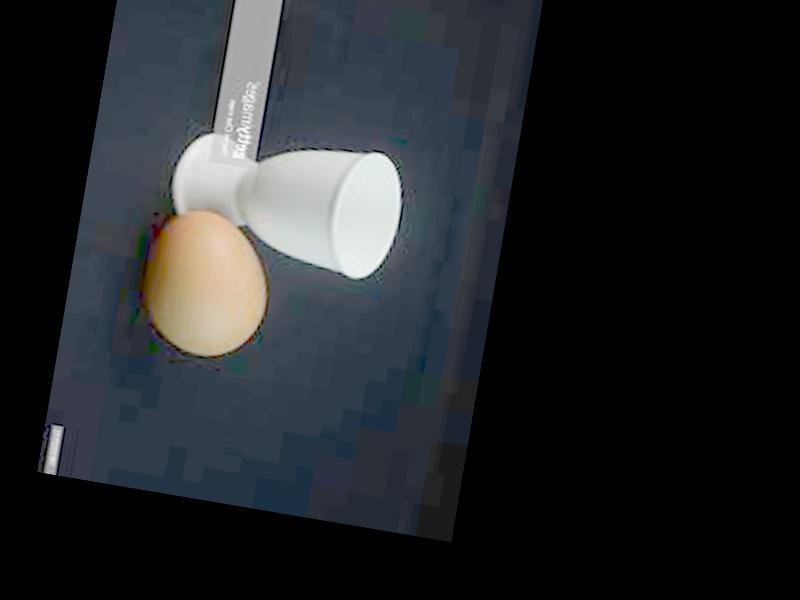Eggs: (142, 203, 279, 362)
